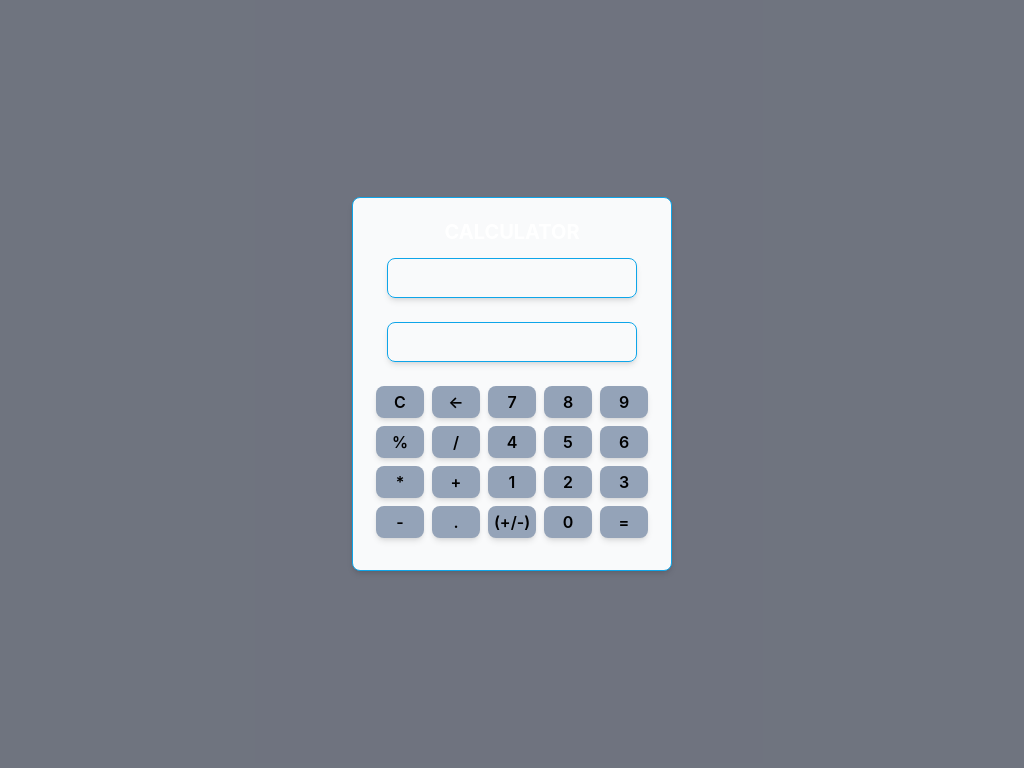
Calculator actions › should show me an error message
This screenshot has width=1024, height=768.
What coordinates should you click on to do the following:
click the button "1"
I would click on:
 (512, 482)
Its box is [488,466,536,498].
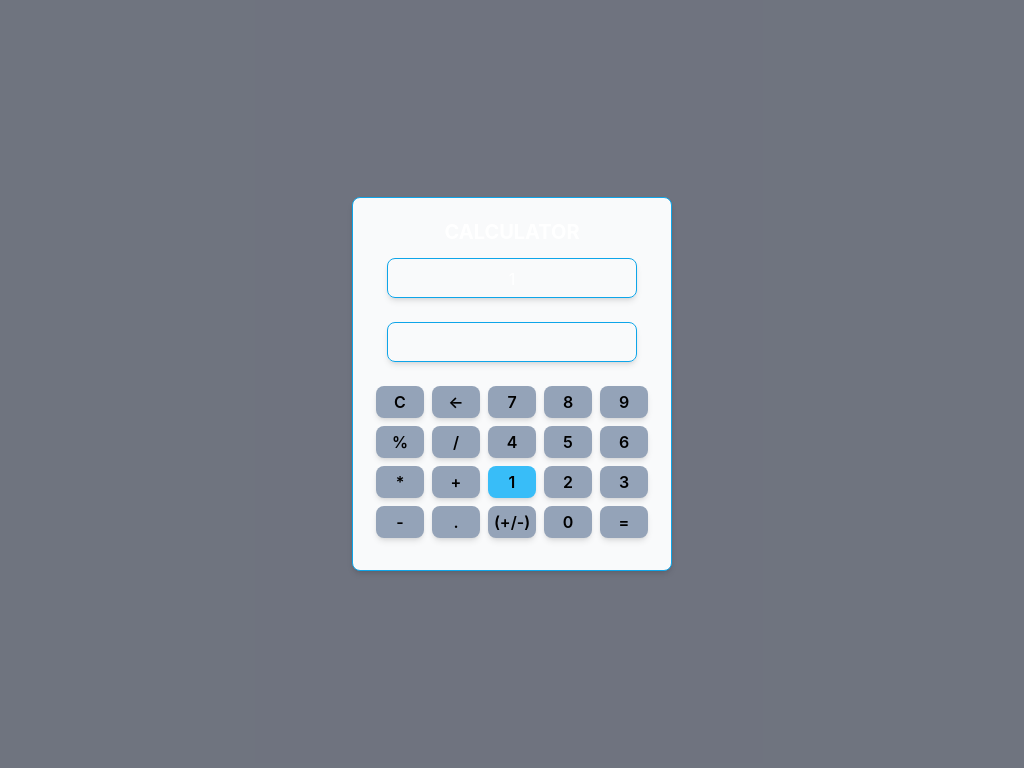
What coordinates should you click on to do the following:
click the button "."
I would click on:
 (456, 522)
Its box is [432,506,480,538].
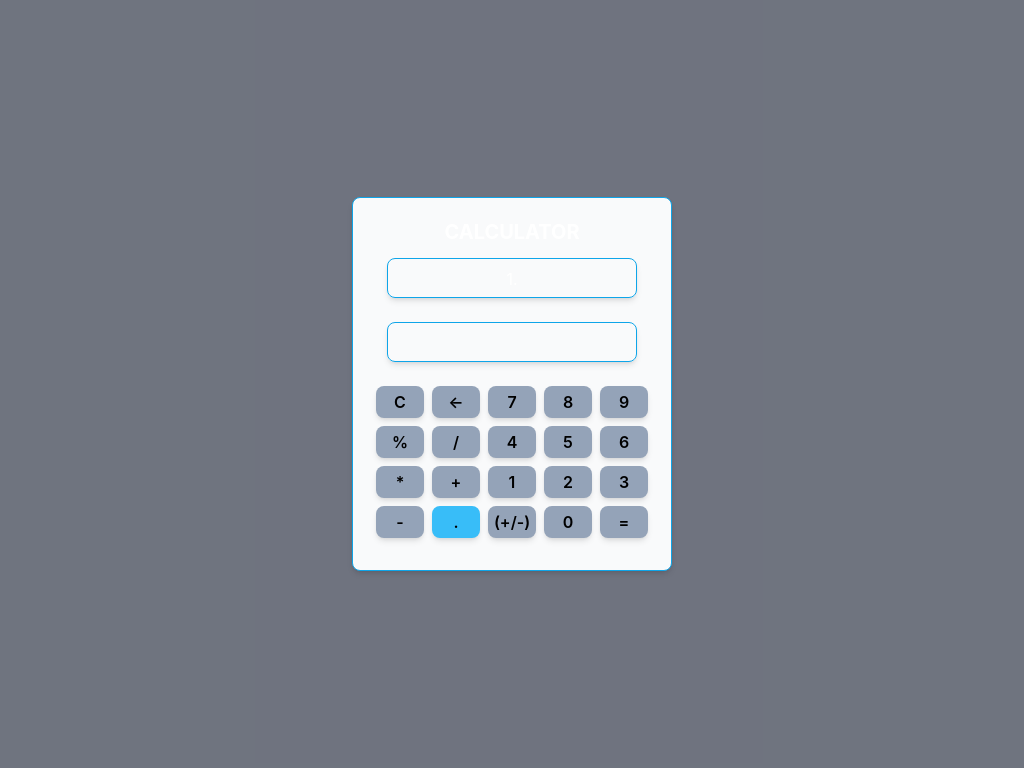
What coordinates should you click on to do the following:
click the button "="
I would click on:
 (624, 522)
Its box is [600,506,648,538].
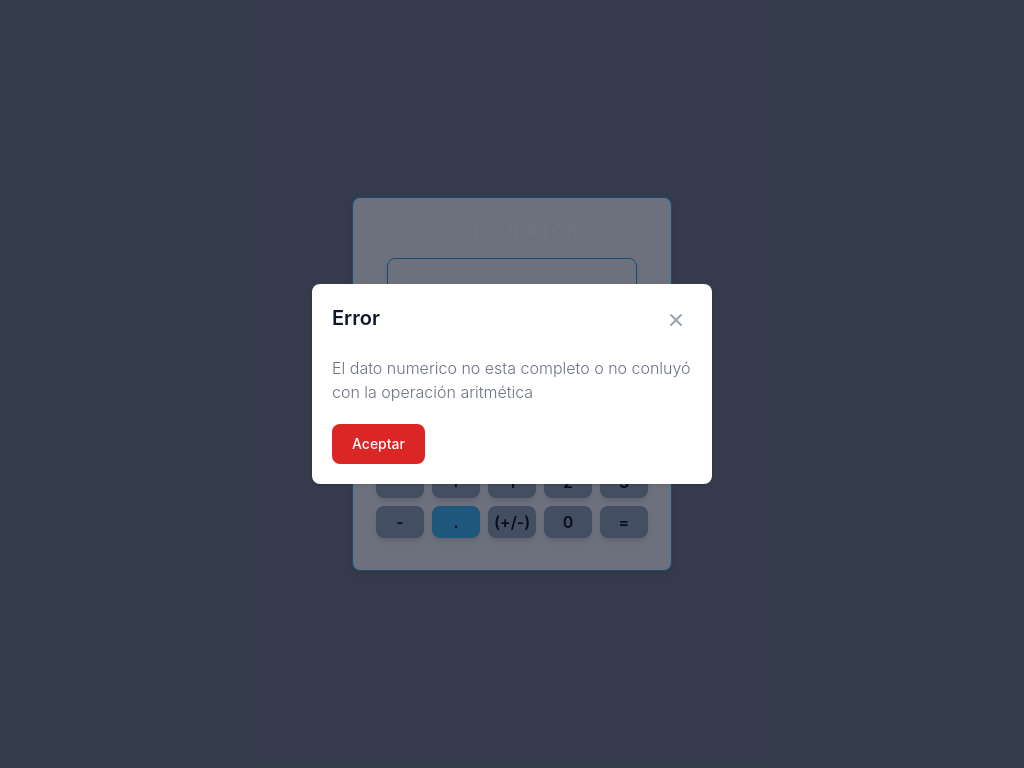
Expected: the element with id "ModalMessage" is shown, [312,284,712,484]
